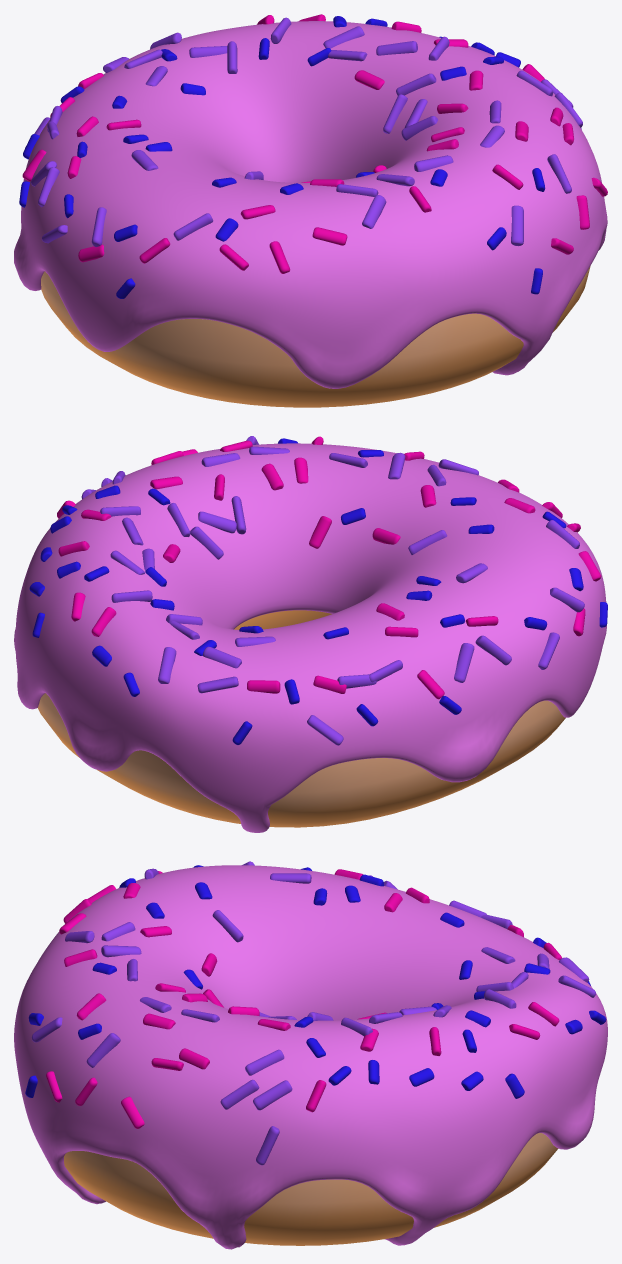
Rendered from test_donut6.glb.
The picture shows the model from 3 angles, top to bottom: view 1: azimuth 30°, elevation 25°; view 2: azimuth 150°, elevation 25°; view 3: azimuth 270°, elevation 25°; orthographic projection. The views are drawn at different scales.
Parts seen in each view (by area): view 1: icing, Donut; view 2: icing, Donut; view 3: icing, Donut, GN Instance.
Part boxes in pixels (x1,y1,x2,y2): icing: (14, 21, 607, 388); Donut: (41, 266, 590, 407); icing: (14, 443, 606, 832); Donut: (38, 610, 565, 827); icing: (14, 865, 607, 1249); Donut: (64, 1133, 558, 1245); GN Instance: (253, 1080, 292, 1110).
Bounding box in the file's own units: 1.51 × 0.6225 × 1.53.
Materials: 5 (1 with a texture image).
